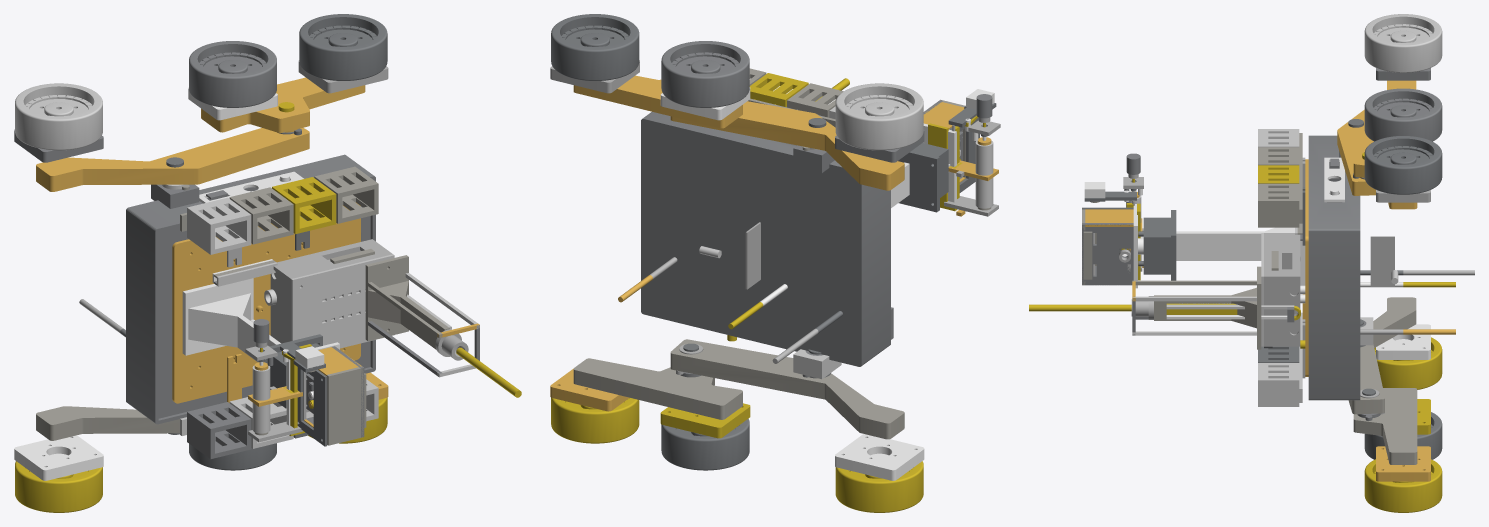
File: rover.glb
3 renders of one model, left to right at view 1: azimuth 30°, elevation 25°; view 2: azimuth 150°, elevation 25°; view 3: azimuth 270°, elevation 25°, orthographic. The views are drawn at different scales.
Visible parts, largest first — view 1: Part 146, Surface 19, Part 127, Surface 5, Part 5, Part 129, Part 50, Surface 15, Surface 4, Part 128, Part 46, Part 47 (+24 smaller); view 2: Part 146, Part 128, Part 48, Part 127, Part 129, Part 5, Part 50, Part 53, Part 132, Part 8, Part 131, Part 101 (+17 smaller); view 3: Part 146, Part 129, Part 5, Part 46, Part 50, Part 48, Surface 15, Part 128, Part 8, Part 58, Part 101, Part 132 (+26 smaller).
Part boxes in pixels (bbox=[...]): Part 146: bbox=[126, 154, 375, 424]; Surface 19: bbox=[172, 202, 360, 403]; Part 127: bbox=[36, 127, 309, 191]; Surface 5: bbox=[291, 254, 394, 348]; Part 5: bbox=[299, 14, 387, 80]; Part 129: bbox=[15, 83, 102, 150]; Part 50: bbox=[189, 41, 276, 107]; Surface 15: bbox=[182, 278, 280, 362]; Surface 4: bbox=[365, 255, 449, 349]; Part 128: bbox=[36, 406, 179, 440]; Part 46: bbox=[270, 239, 392, 343]; Part 47: bbox=[201, 77, 365, 132]; Part 146: bbox=[641, 111, 890, 366]; Part 128: bbox=[670, 339, 904, 439]; Part 48: bbox=[573, 358, 742, 419]; Part 127: bbox=[670, 101, 904, 190]; Part 129: bbox=[835, 83, 923, 150]; Part 5: bbox=[551, 14, 639, 80]; Part 50: bbox=[661, 41, 749, 107]; Part 53: bbox=[661, 418, 749, 470]; Part 132: bbox=[835, 461, 923, 512]; Part 8: bbox=[551, 397, 639, 443]; Part 131: bbox=[835, 434, 924, 480]; Part 101: bbox=[898, 142, 948, 212]; Part 146: bbox=[1308, 135, 1360, 400]; Part 129: bbox=[1364, 14, 1442, 72]; Part 5: bbox=[1364, 136, 1442, 194]; Part 46: bbox=[1264, 233, 1300, 346]; Part 50: bbox=[1364, 88, 1442, 141]; Part 48: bbox=[1353, 388, 1417, 464]; Surface 15: bbox=[1176, 227, 1305, 285]; Part 128: bbox=[1348, 297, 1416, 414]; Part 8: bbox=[1364, 459, 1442, 512]; Part 58: bbox=[1082, 223, 1133, 285]; Part 101: bbox=[1138, 210, 1176, 280]; Part 132: bbox=[1374, 337, 1442, 389].
Bounding box in the file's own units: 0.425 × 0.443 × 0.518.
